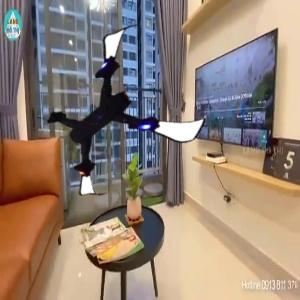drone: (39, 31, 192, 184)
